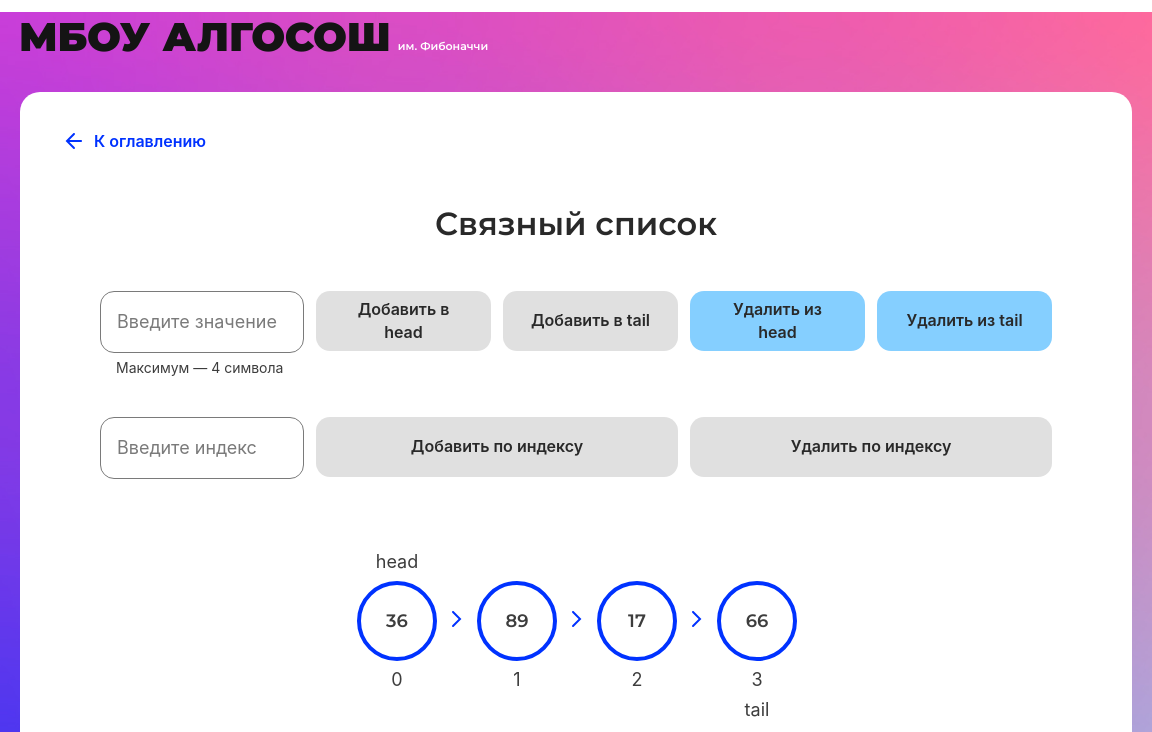
Test: Страница Связный список отображается корректно › Элемент добавляется по индексу
This screenshot has width=1152, height=732.
In the field with test id "input": {"x": 202, "y": 322} [100,291,304,353], type "1"
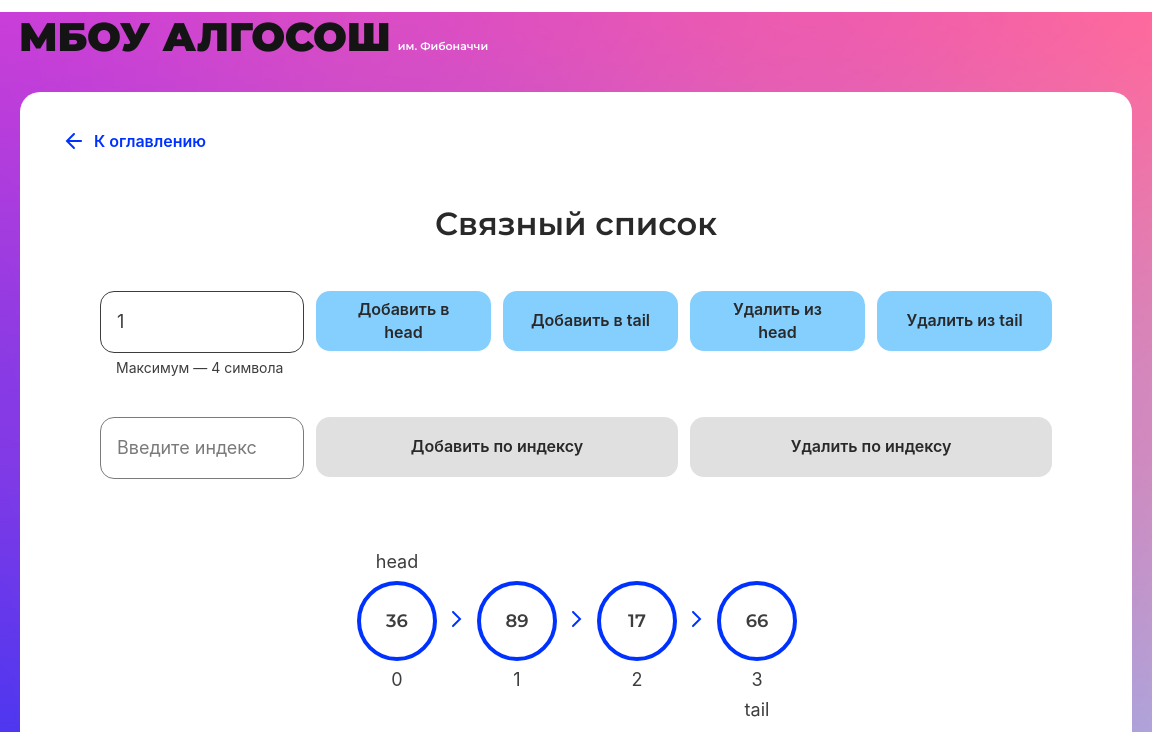
In the number field with test id "indexinput": {"x": 202, "y": 448} [100,417,304,479], type "2"
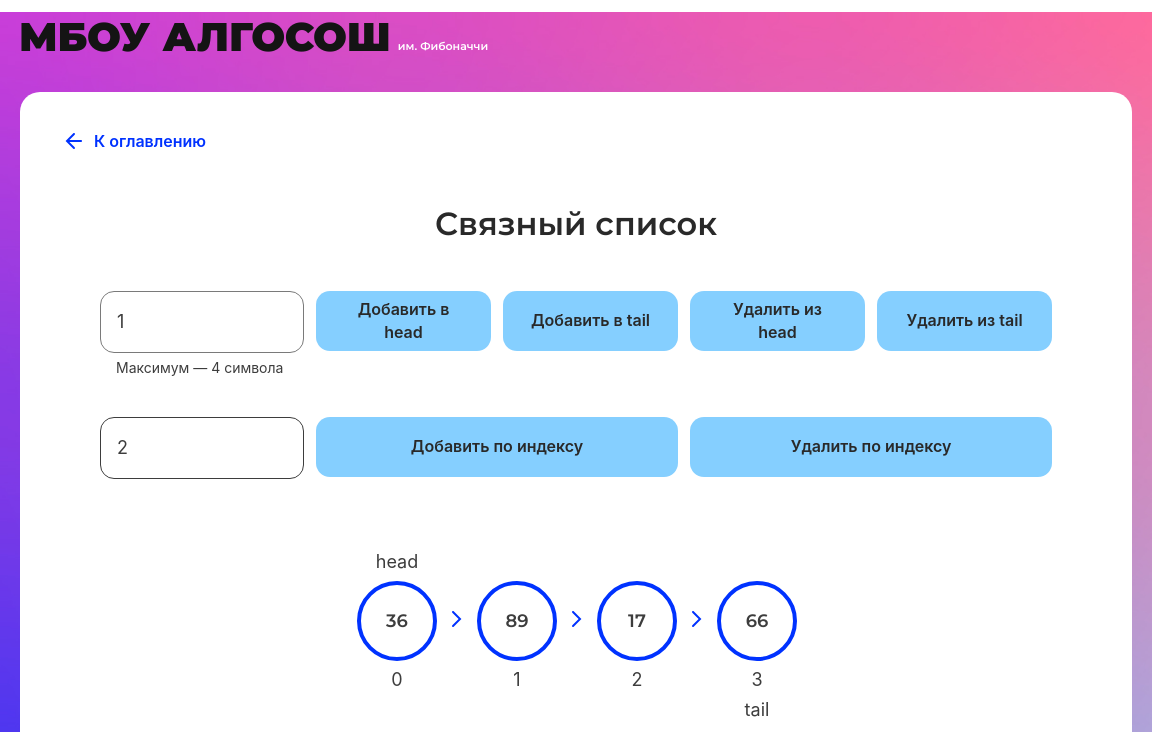
Click the button with test id "addbyindexbutton": {"x": 497, "y": 447} [316,417,678,477]
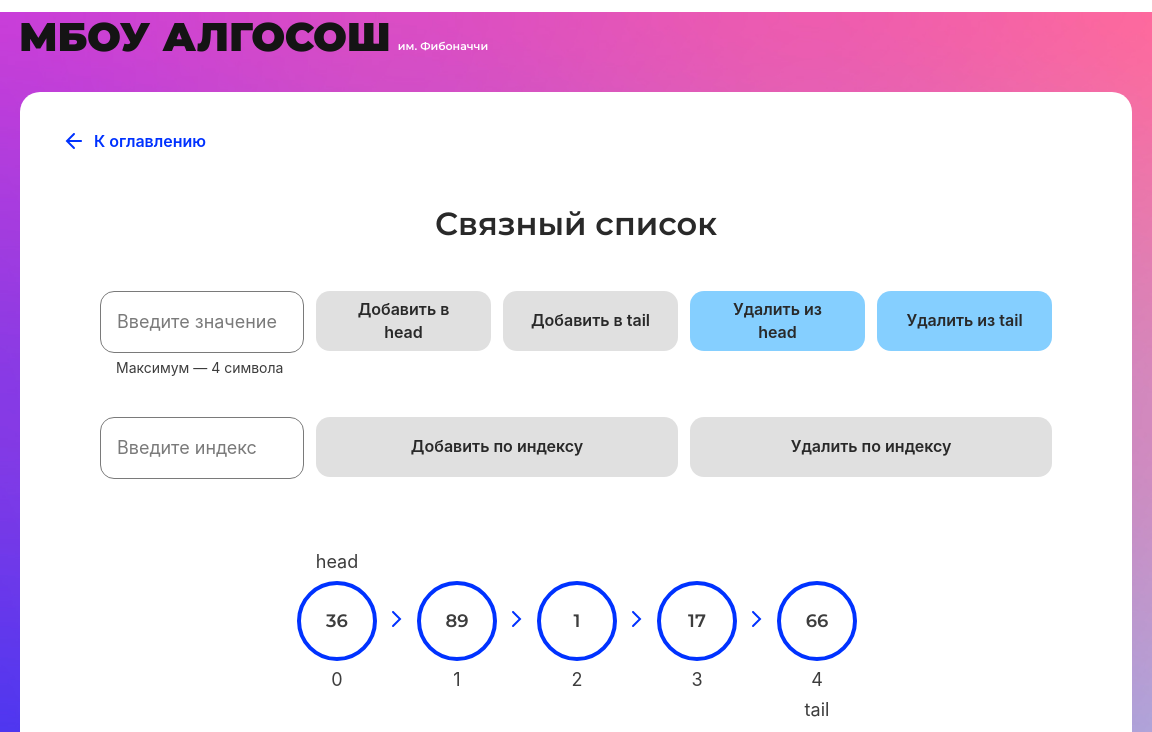
Now the number of elements with test id "circle" is 5, box [297,581,377,661]; [417,581,497,661]; [537,581,617,661]; [657,581,737,661]; [777,581,857,661]
Now the number of elements with test id "arrow" is 4, box [382,607,406,635]; [502,607,526,635]; [622,607,646,635]; [742,607,766,635]
Now the text with test id "circle" reads "1", box [574,610,581,632]
